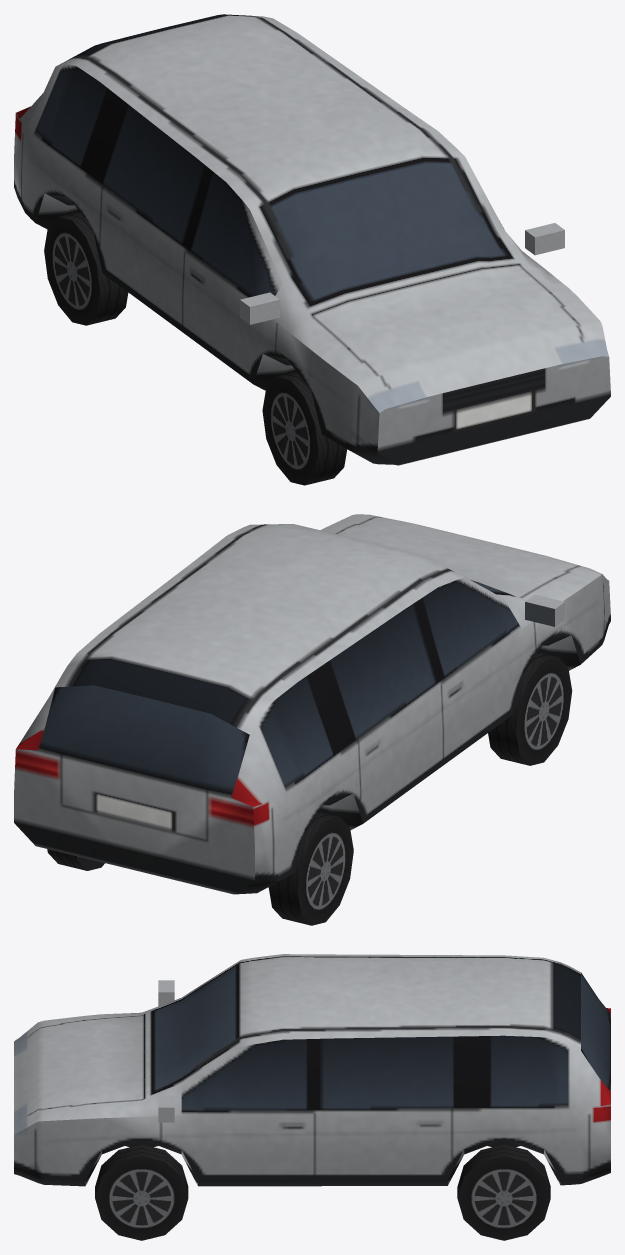
File: SM_Morin_Auto_B_v2_Argento_LOD1.fbx
The picture shows the model from 3 angles, top to bottom: view 1: azimuth 30°, elevation 25°; view 2: azimuth 150°, elevation 25°; view 3: azimuth 270°, elevation 25°; orthographic projection. The views are drawn at different scales.
Visible parts, largest first — view 1: SM_Morin_Auto_B_v2_Argento_LOD1; view 2: SM_Morin_Auto_B_v2_Argento_LOD1; view 3: SM_Morin_Auto_B_v2_Argento_LOD1.
Part boxes in pixels (left/top/right/bottom): SM_Morin_Auto_B_v2_Argento_LOD1: left=14, top=14, right=610, bottom=485; SM_Morin_Auto_B_v2_Argento_LOD1: left=14, top=514, right=610, bottom=925; SM_Morin_Auto_B_v2_Argento_LOD1: left=14, top=954, right=610, bottom=1240.
Bounding box in the file's own units: 220 × 435 × 164.
1 material, 1 textured.
